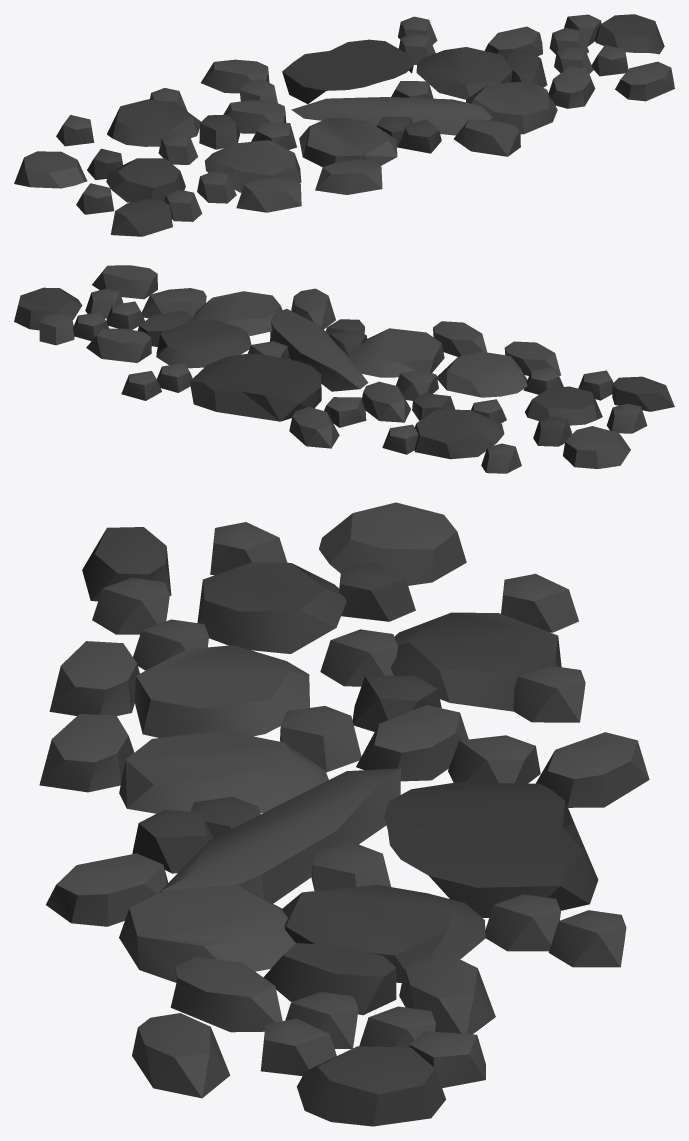
File: ea_swamp_stones_04a_pre_26_lev1.glb
3 views of the same model, one above another, from view 1: azimuth 30°, elevation 25°; view 2: azimuth 150°, elevation 25°; view 3: azimuth 270°, elevation 25° (orthographic). The views are drawn at different scales.
Parts seen in each view (by area): view 1: ea_swamp_stones_04a_pre_26_lev1; view 2: ea_swamp_stones_04a_pre_26_lev1; view 3: ea_swamp_stones_04a_pre_26_lev1.
Boxes of the visible parts, x1,y1,x2,y2 form: ea_swamp_stones_04a_pre_26_lev1: [14, 14, 674, 236]; ea_swamp_stones_04a_pre_26_lev1: [14, 265, 674, 473]; ea_swamp_stones_04a_pre_26_lev1: [39, 502, 649, 1126].
Size of the model in its own units: 5.36 by 0.168 by 2.32.
Materials: 1 (1 with a texture image).
